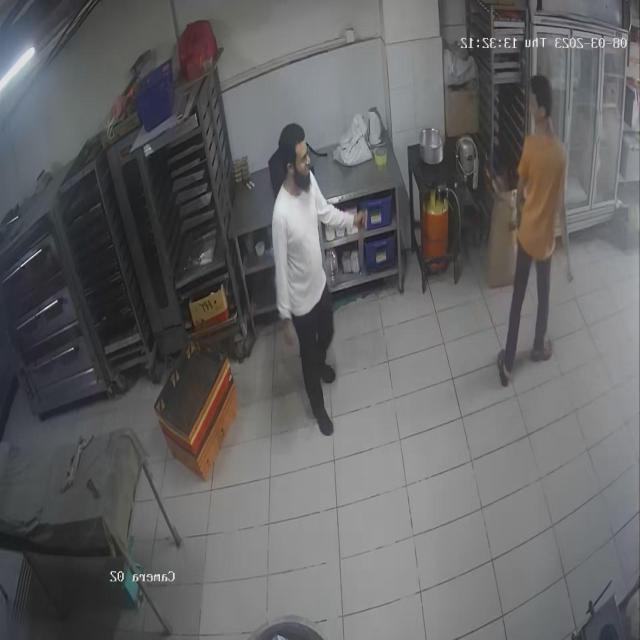Knife: (346, 187, 386, 251)
